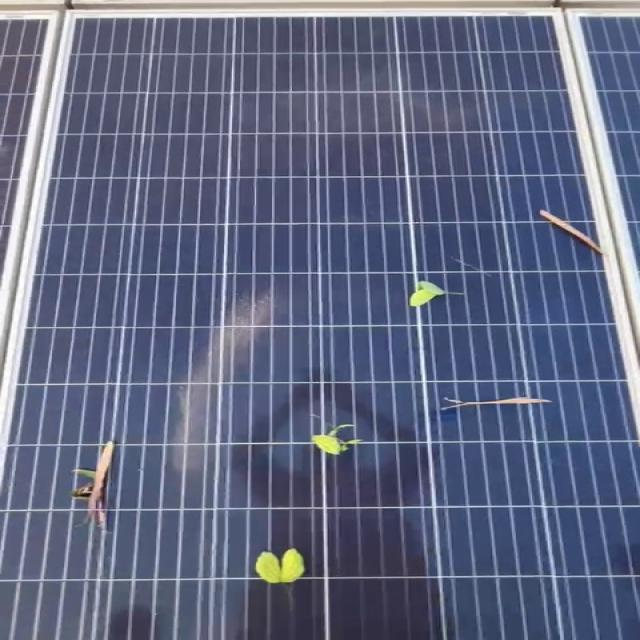dust_partical: (149, 270, 295, 478)
old_leaf: (49, 424, 149, 537), (511, 200, 627, 269), (240, 541, 338, 604), (380, 269, 493, 317), (424, 386, 569, 418), (289, 415, 382, 463)
